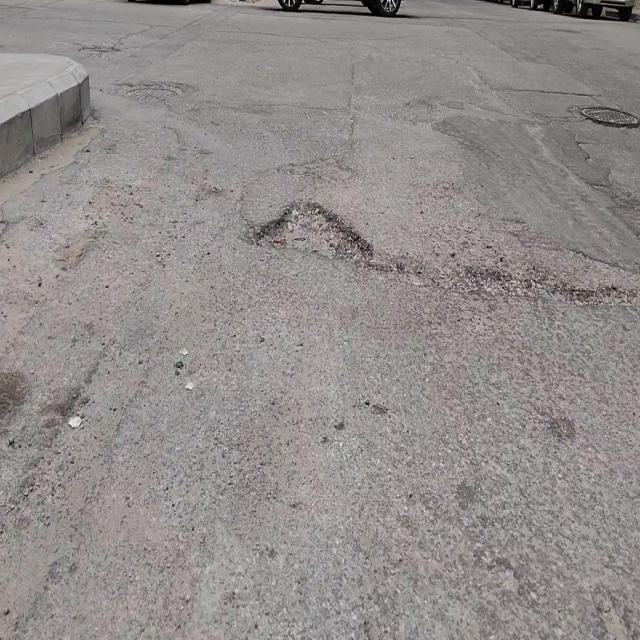Pothole: (256, 196, 374, 266)
